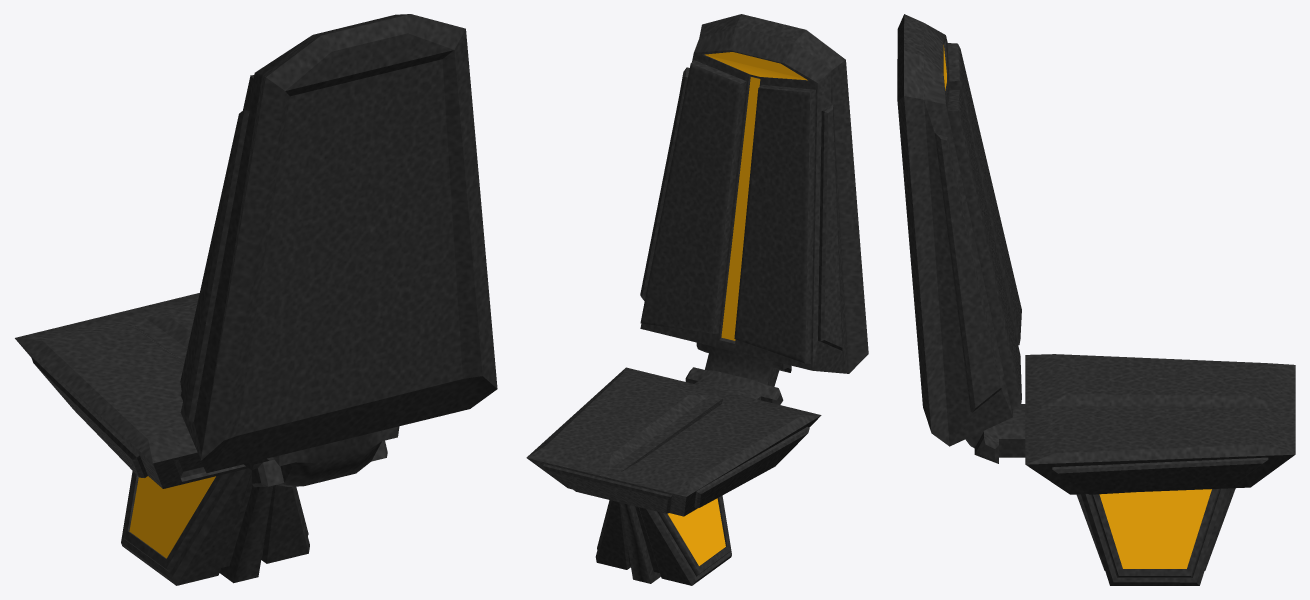
File: FUR0310009.fbx
The picture shows the model from 3 angles, left to right: view 1: azimuth 30°, elevation 25°; view 2: azimuth 150°, elevation 25°; view 3: azimuth 270°, elevation 25°; orthographic projection. The views are drawn at different scales.
Visible parts, largest first — view 1: smFUR0310009; view 2: smFUR0310009; view 3: smFUR0310009.
Boxes of the visible parts, <box> form: smFUR0310009: <box>15,14,497,585</box>; smFUR0310009: <box>526,14,868,585</box>; smFUR0310009: <box>897,14,1295,585</box>.
Size of the model in its own units: 81.61 by 169 by 115.
1 material, 1 textured.
